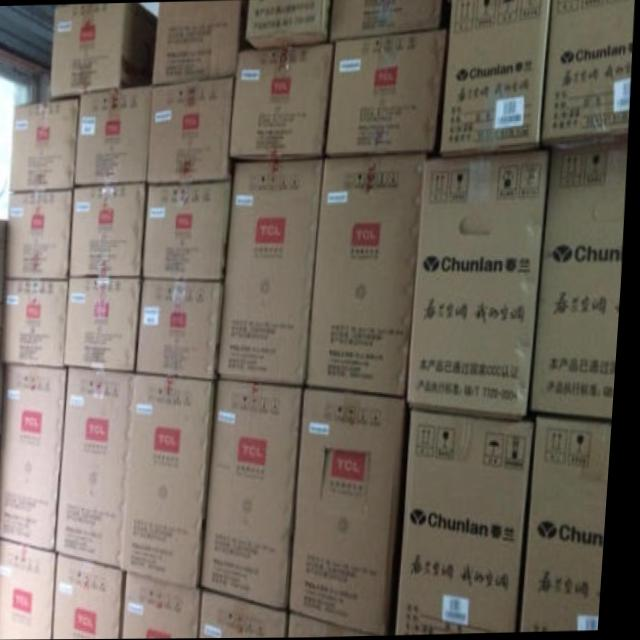box: (411, 153, 551, 419), (403, 408, 540, 635), (294, 387, 410, 636), (310, 154, 424, 397), (535, 144, 629, 419), (207, 381, 308, 612), (222, 160, 324, 384), (129, 372, 219, 587), (529, 416, 618, 633), (442, 0, 550, 157), (326, 29, 448, 155), (62, 367, 138, 567), (542, 0, 634, 150), (3, 365, 71, 550), (231, 42, 335, 158), (50, 2, 156, 98), (148, 77, 235, 181), (140, 278, 226, 379), (146, 183, 232, 278), (154, 0, 251, 84), (76, 86, 151, 184), (69, 277, 145, 371), (72, 183, 148, 277), (12, 96, 79, 189), (3, 539, 63, 640), (8, 188, 75, 277), (60, 553, 129, 639), (5, 278, 70, 365), (128, 572, 206, 639), (328, 0, 441, 41), (246, 0, 328, 47)
